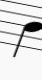note: (9, 3, 42, 64)
